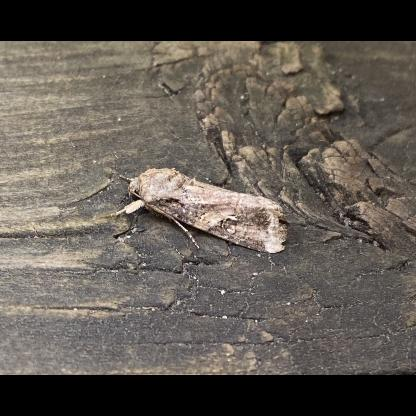Fall Armyworm Moth: (96, 164, 290, 258)
